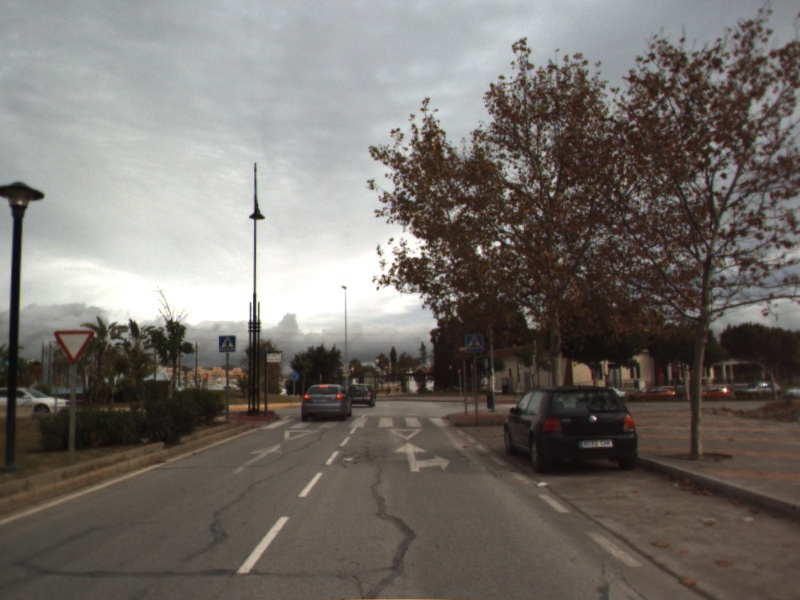STRAIGHT: (230, 442, 284, 476)
STRAIGHT_RIGHT: (391, 441, 452, 474)
